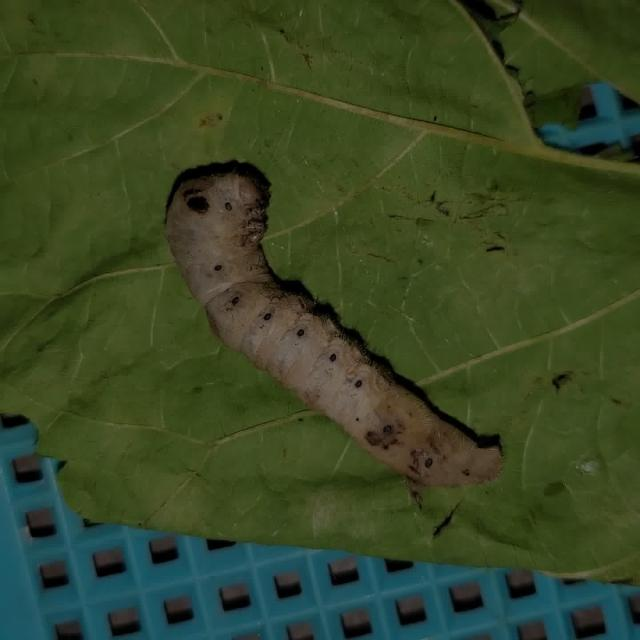Grasserie: (154, 154, 506, 499)
